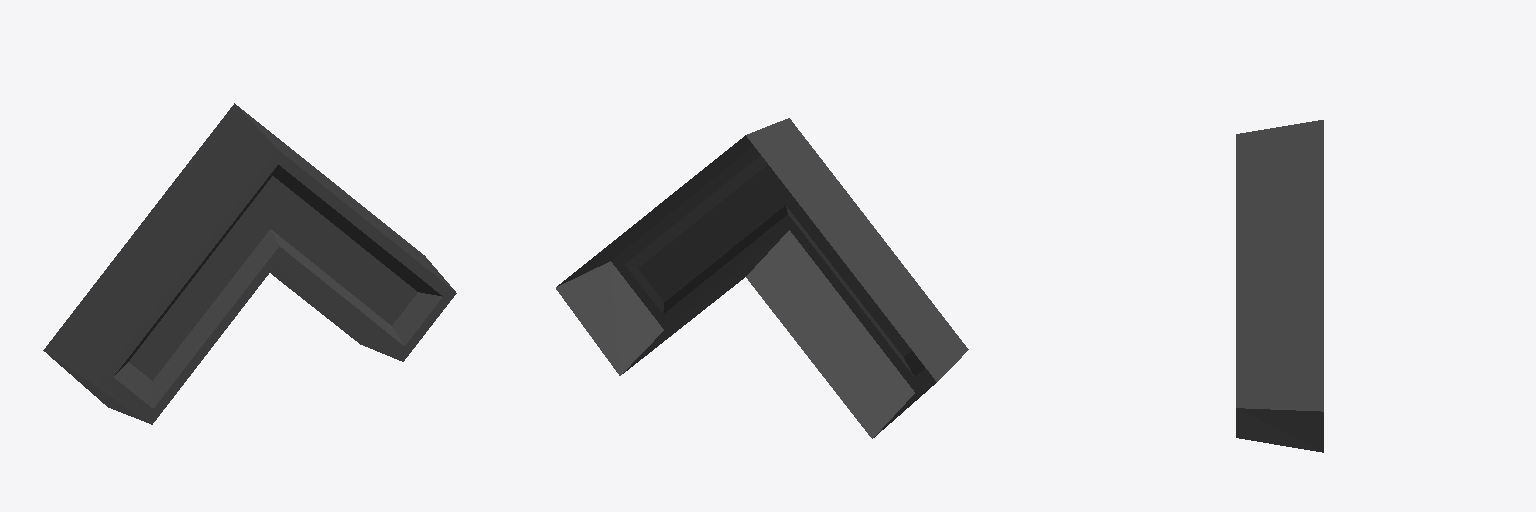
Rendered from Details_Arrow_2.obj.
3 renders of one model, left to right at view 1: azimuth 30°, elevation 25°; view 2: azimuth 150°, elevation 25°; view 3: azimuth 270°, elevation 25°, orthographic.
Visible parts, largest first — view 1: Details_Arrow_2_Cube.064; view 2: Details_Arrow_2_Cube.064; view 3: Details_Arrow_2_Cube.064.
Boxes of the visible parts, x1=… form: Details_Arrow_2_Cube.064: x1=43, y1=103, x2=456, y2=424; Details_Arrow_2_Cube.064: x1=556, y1=118, x2=968, y2=438; Details_Arrow_2_Cube.064: x1=1236, y1=120, x2=1323, y2=452.
Size of the model in its own units: 0.3673 by 0.2513 by 0.0728.